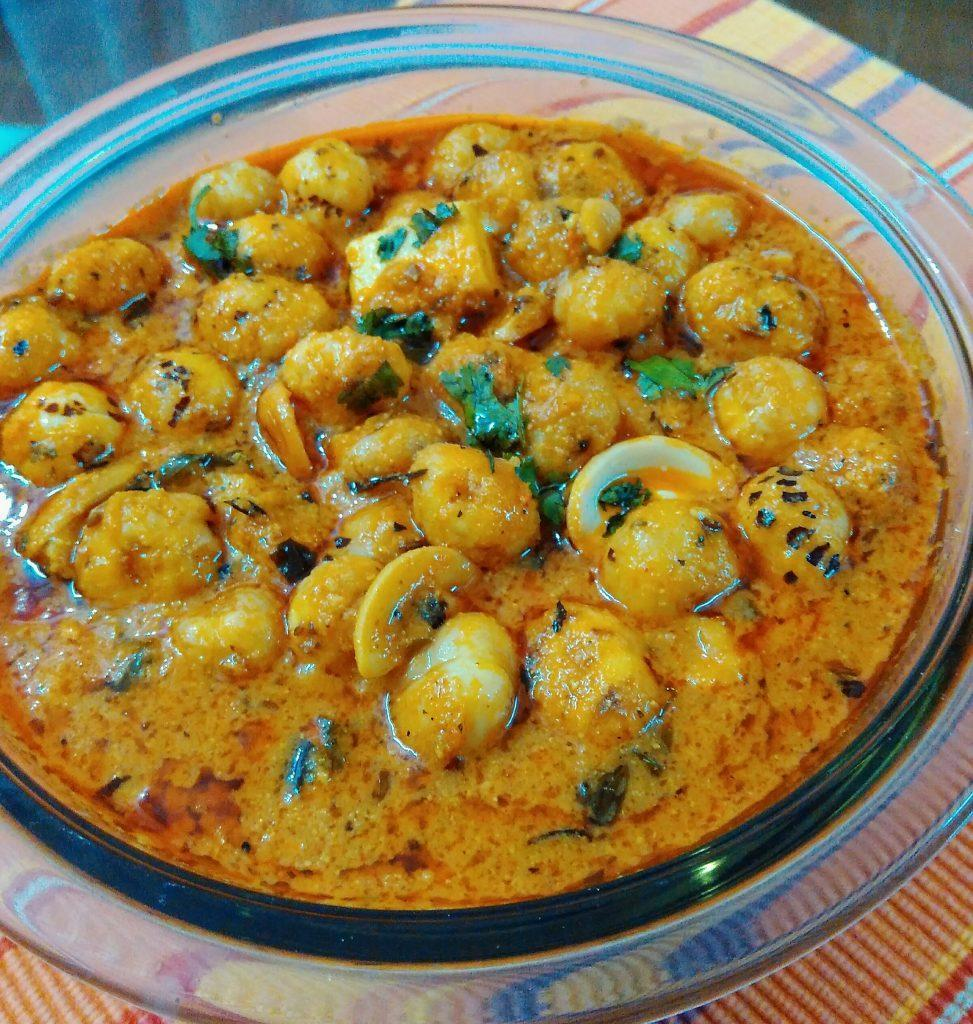paneer: (124, 228, 832, 736)
